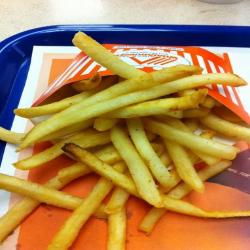fries: (15, 45, 240, 213)
